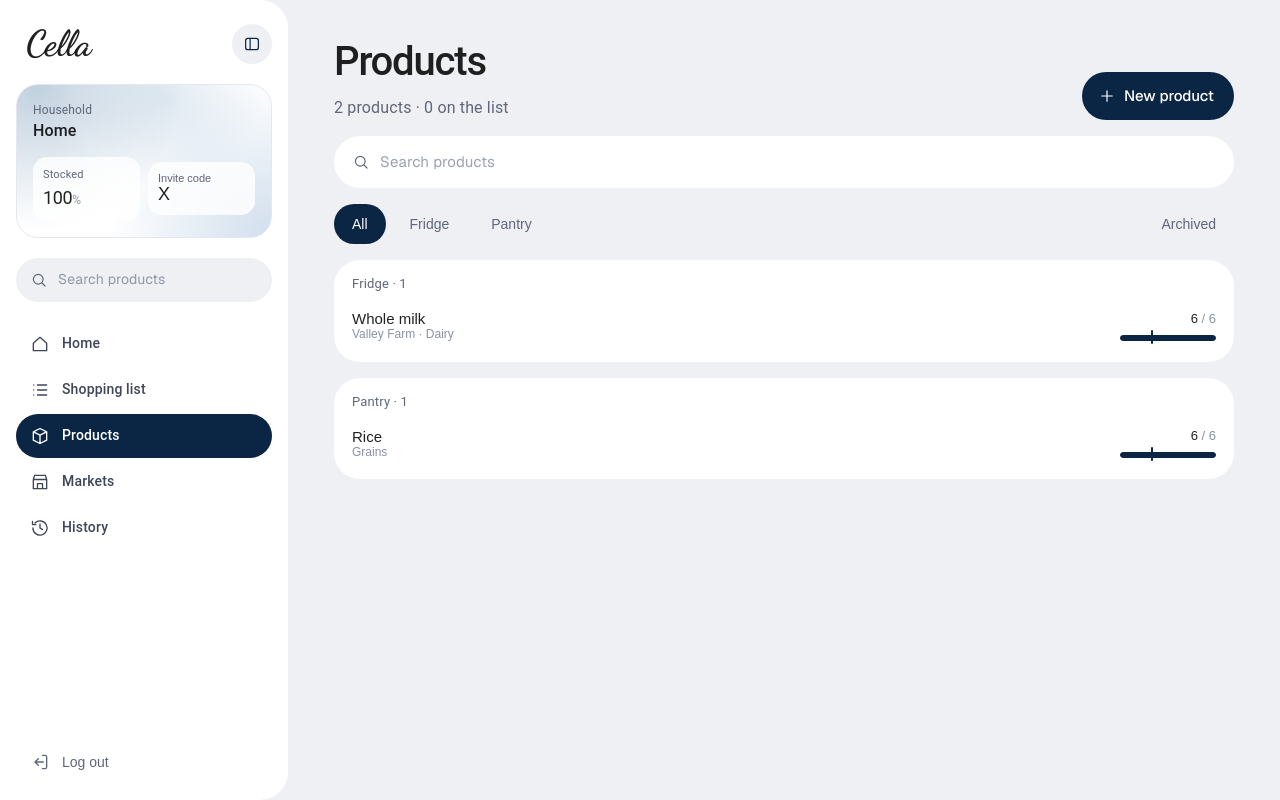
it: Products screen › archives a product and brings it back from the archive
The width and height of the screenshot is (1280, 800).
What coordinates should you click on to do the following:
click the button with aria-label "Edit Rice"
I would click on:
 (367, 436)
Its box is [352, 413, 1216, 473].
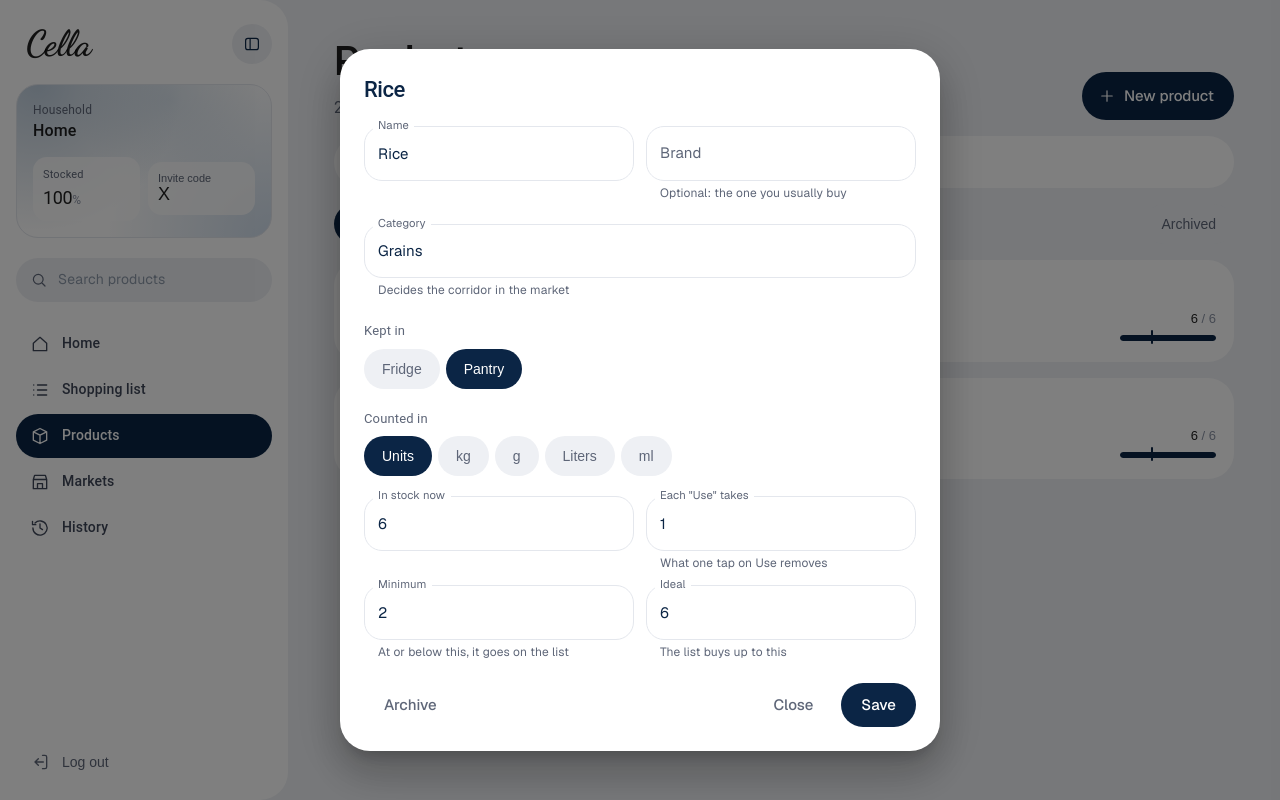
What coordinates should you click on to do the following:
click the button "Archive"
I would click on:
 (410, 705)
Its box is [364, 683, 457, 727].
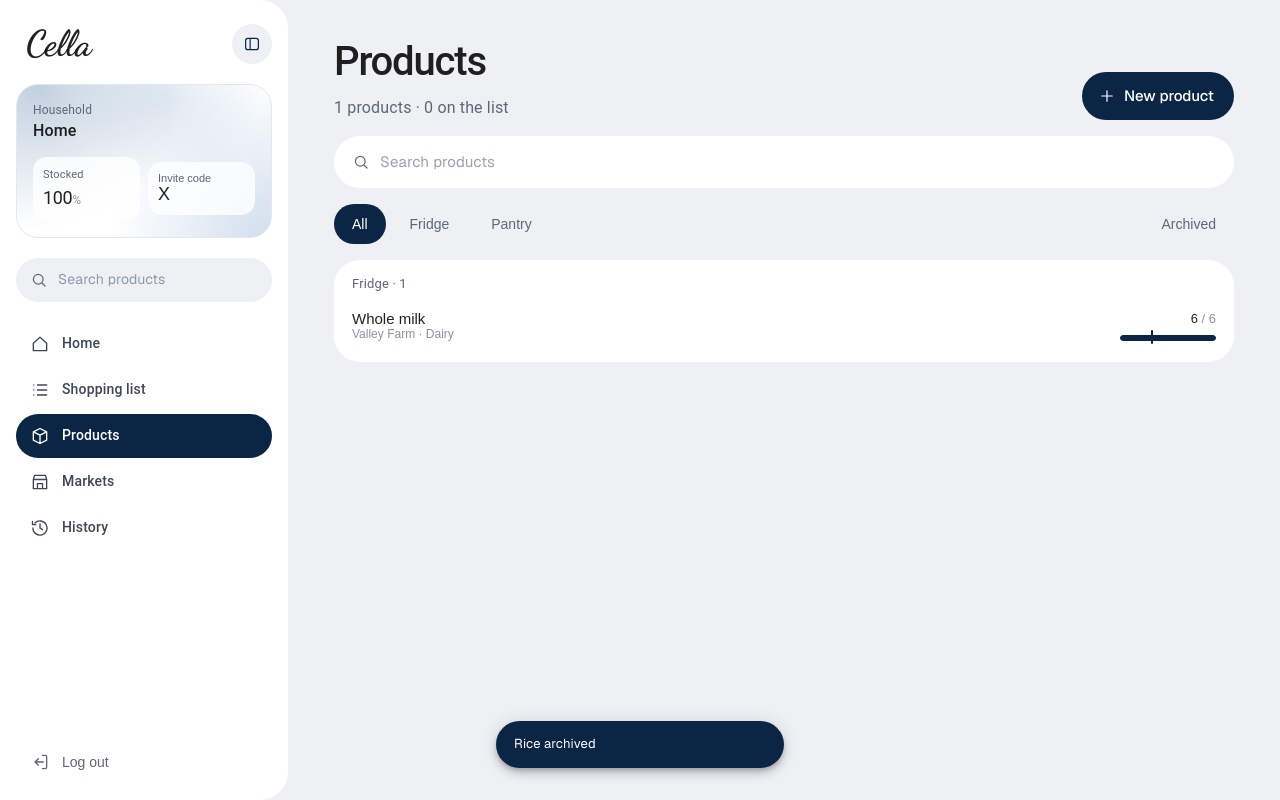
What coordinates should you click on to do the following:
click the checkbox labelled "Archived"
I would click on:
 (1189, 224)
Its box is [1144, 204, 1234, 244].
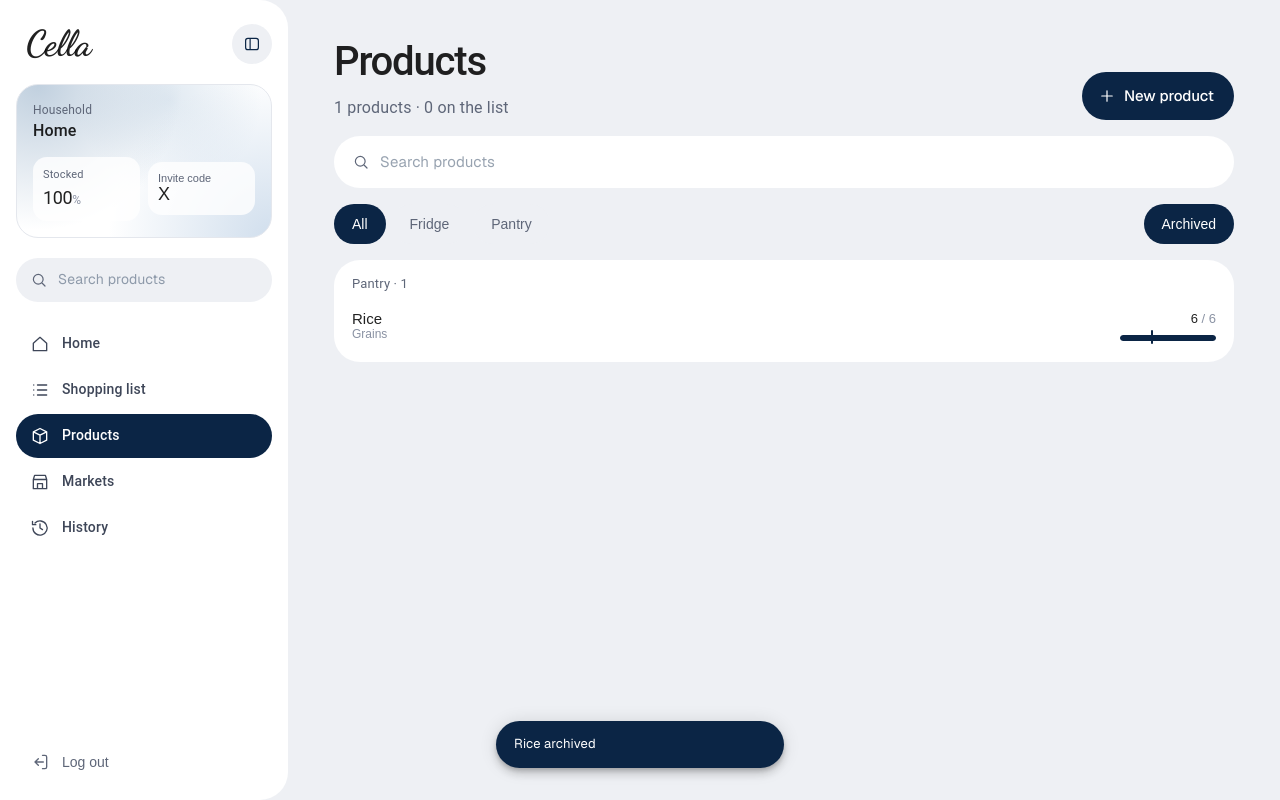
What coordinates should you click on to do the following:
click the button with aria-label "Edit Rice"
I would click on:
 (367, 318)
Its box is [352, 296, 1216, 356].
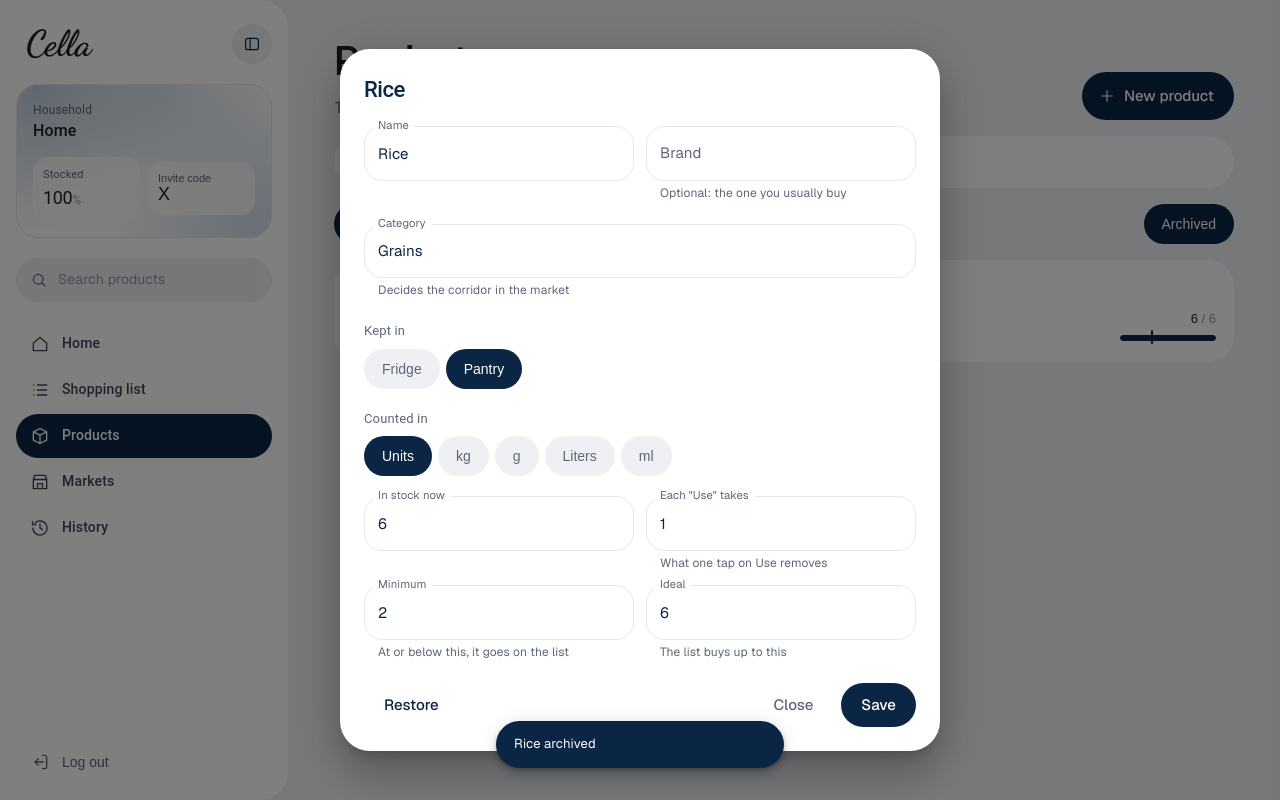
What coordinates should you click on to do the following:
click the button "Restore"
I would click on:
 (411, 705)
Its box is [364, 683, 459, 727].
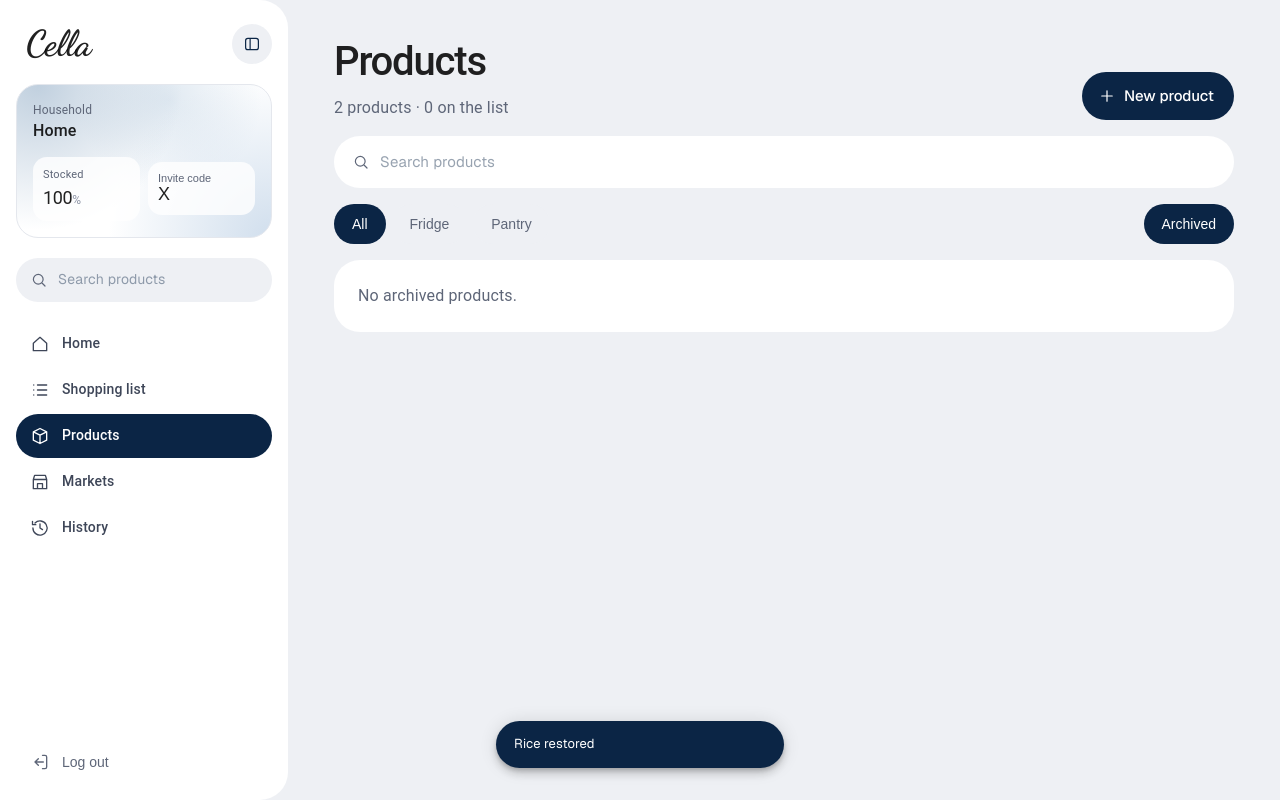
Check: the text "Rice restored" is shown, box [514, 735, 595, 752]
